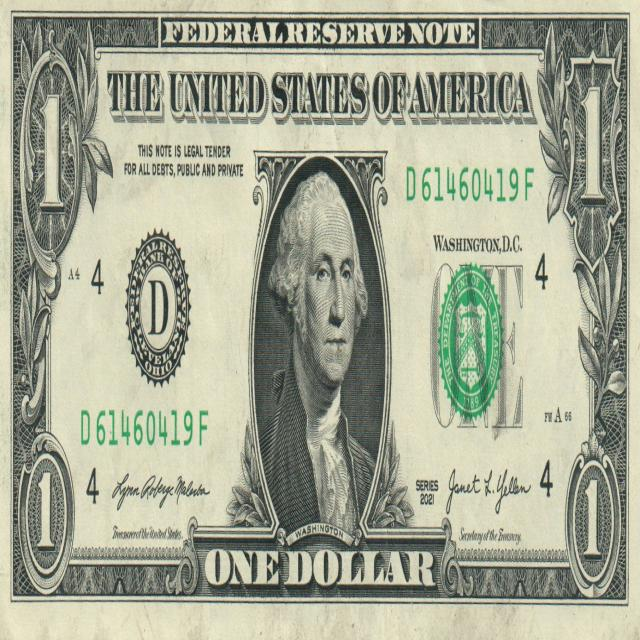SerialNumber: (81, 411, 208, 446), (407, 167, 533, 202)
